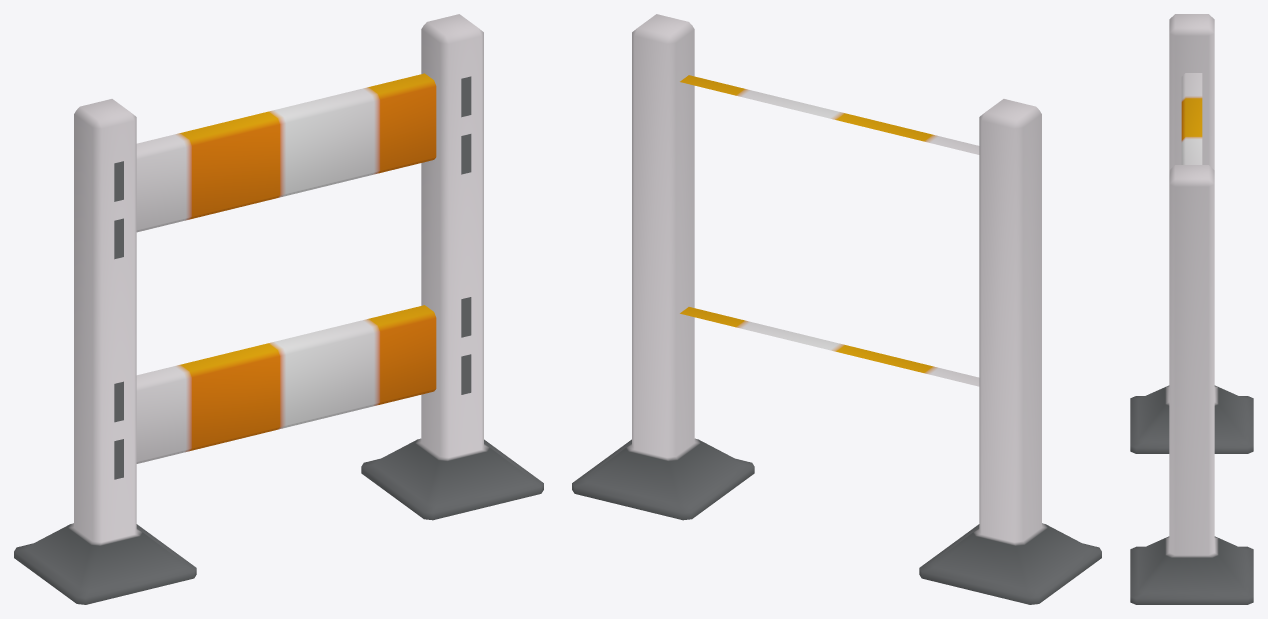
Rendered from ObstacleRoadworksBarrier.prefab.glb.
3 views of the same model, side by side, from view 1: azimuth 30°, elevation 25°; view 2: azimuth 150°, elevation 25°; view 3: azimuth 270°, elevation 25° (orthographic). The views are drawn at different scales.
Visible parts, largest first — view 1: RoadWorksBarrier01; view 2: RoadWorksBarrier01; view 3: RoadWorksBarrier01.
Part boxes in pixels (x1,y1,x2,y2): RoadWorksBarrier01: (14, 14, 543, 604); RoadWorksBarrier01: (572, 14, 1101, 604); RoadWorksBarrier01: (1130, 14, 1253, 604).
Size of the model in its own units: 1.66 by 1.55 by 0.4257.
